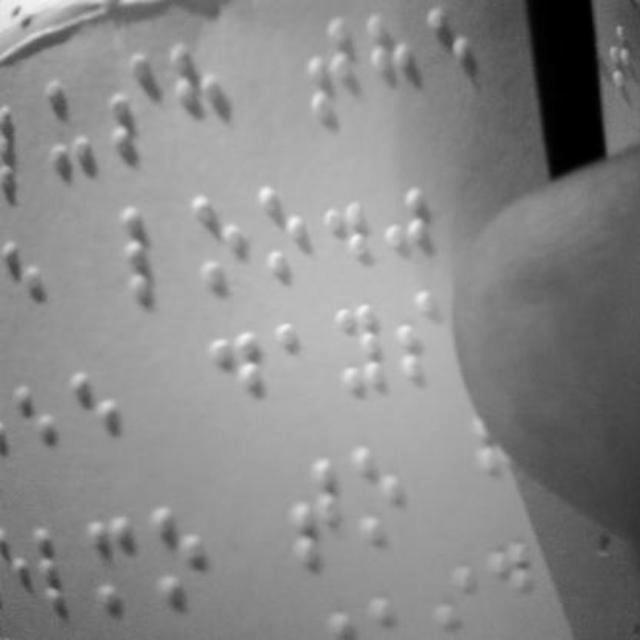braiile: (84, 506, 146, 630), (289, 443, 347, 575), (150, 498, 217, 612), (422, 3, 486, 121), (168, 32, 230, 150), (206, 318, 268, 430), (348, 436, 409, 548), (334, 290, 396, 400), (49, 66, 109, 178), (68, 361, 128, 471), (188, 187, 248, 296), (108, 41, 164, 156), (119, 200, 179, 306), (0, 89, 56, 201), (366, 9, 422, 121), (34, 510, 90, 620), (304, 13, 362, 119), (398, 281, 452, 394), (257, 178, 313, 286), (0, 224, 50, 334), (10, 372, 62, 476), (278, 313, 328, 417)
